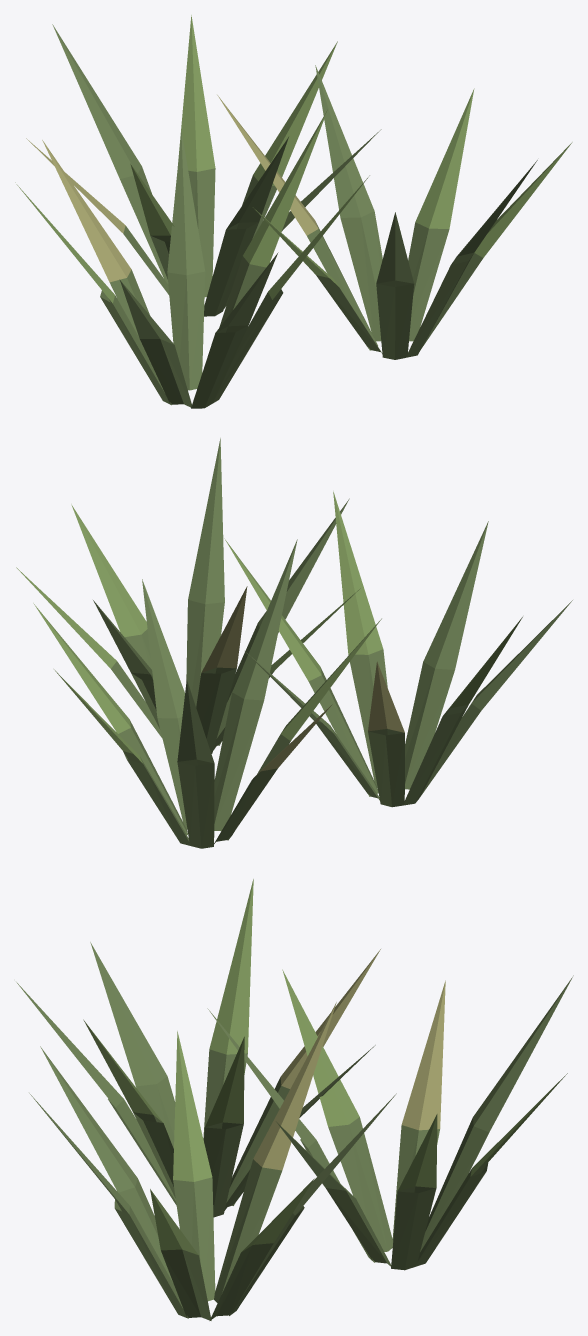
Rendered from bit_grass_clump.glb.
3 views of the same model, one above another, from view 1: azimuth 30°, elevation 25°; view 2: azimuth 150°, elevation 25°; view 3: azimuth 270°, elevation 25° (orthographic). The views are drawn at different scales.
Parts seen in each view (by area): view 1: Grass_Mesh, LeafTip_Mesh, DryGrass_Mesh; view 2: Grass_Mesh, LeafTip_Mesh, DryGrass_Mesh; view 3: Grass_Mesh, LeafTip_Mesh, DryGrass_Mesh.
Boxes of the visible parts, box(x1,y1,x2,y2) form: Grass_Mesh: box(52, 24, 537, 408); LeafTip_Mesh: box(15, 15, 572, 303); DryGrass_Mesh: box(26, 95, 318, 282); Grass_Mesh: box(93, 438, 572, 848); LeafTip_Mesh: box(16, 491, 522, 763); DryGrass_Mesh: box(201, 586, 404, 778); Grass_Mesh: box(16, 942, 573, 1320); LeafTip_Mesh: box(83, 879, 567, 1254); DryGrass_Mesh: box(253, 949, 445, 1170).
Size of the model in its own units: 0.8991 by 0.4 by 0.8148.
